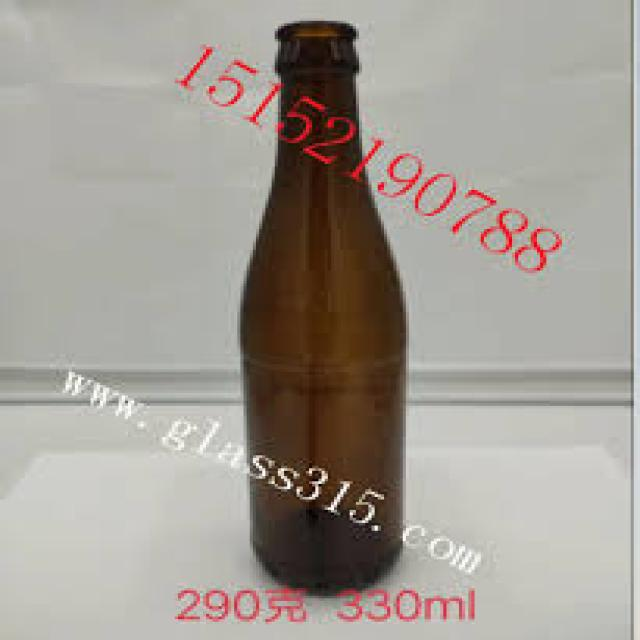glass: (240, 18, 403, 593)
